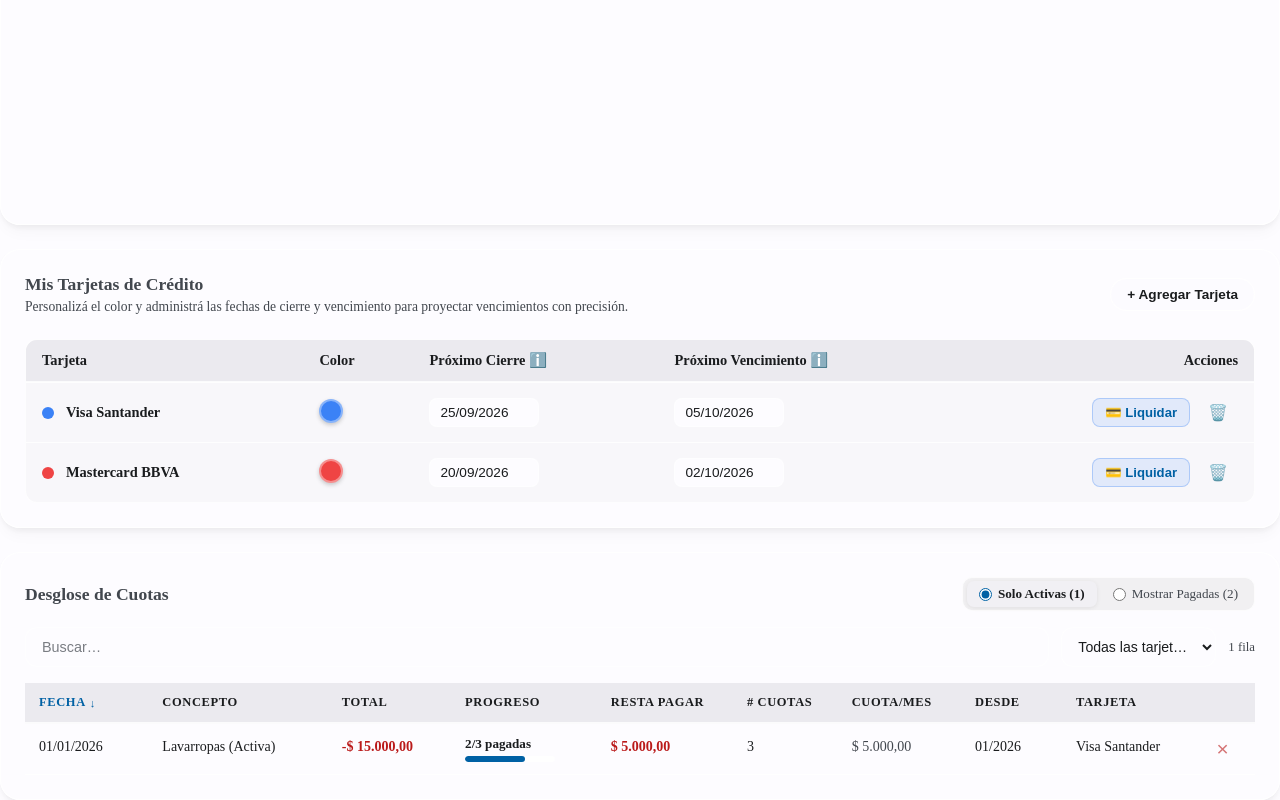
Cuotas UI Components › CuotasDashboard › filters out completed cuotas when "Solo Activas" is selected and reveals them with "Mostrar Pagadas"
(page scrolled)
Expected: the text "Lavarropas (Activa)" is shown, [162,739,275,759]
Expected: the text "Cafetera (Pagada)" is not shown
# Switch radio to "Mostrar Pagadas"
Step 1. Click the radio button labelled "Mostrar Pagadas (2)" → (1119, 594), box [1113,588,1126,600]
(page scrolled)
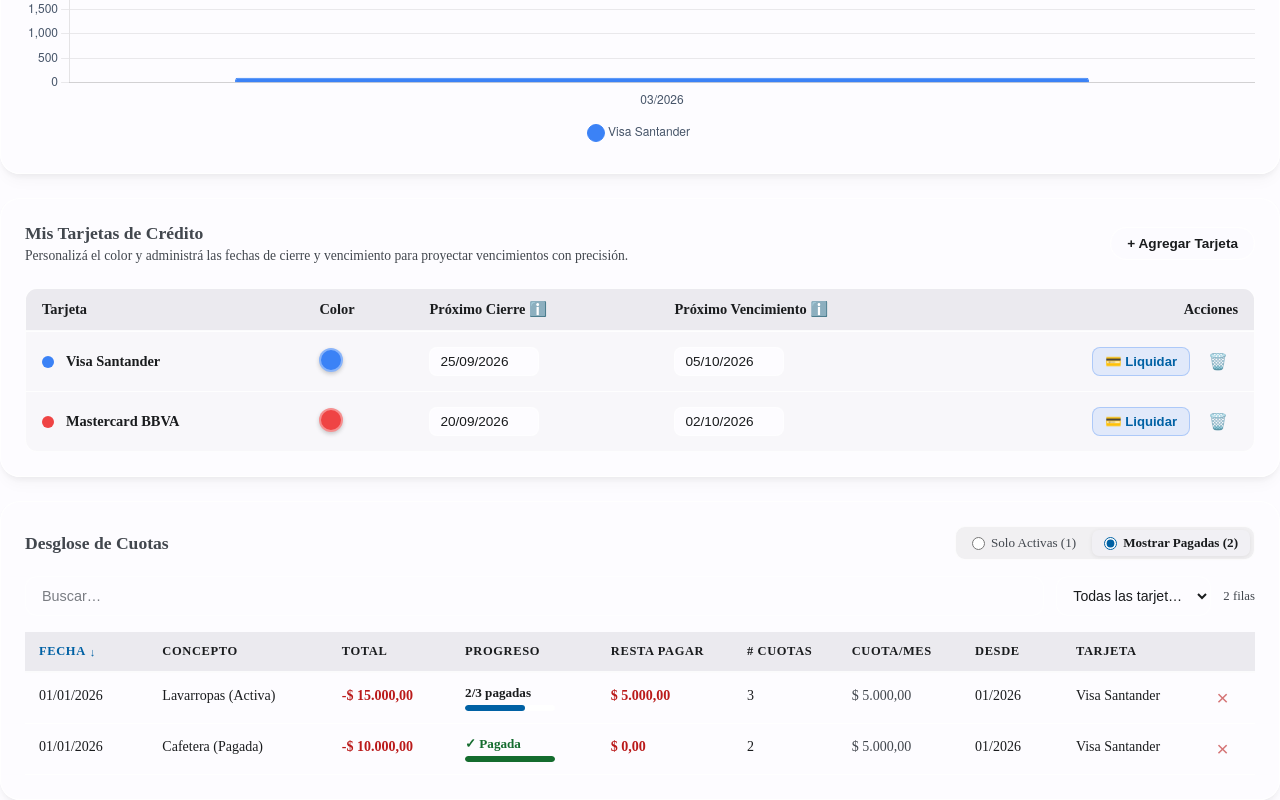
Expected: the text "Lavarropas (Activa)" is shown, [162,688,275,708]
Result: the text "Cafetera (Pagada)" is shown at [162,739,263,759]
Result: the text "✓ Pagada" is shown at [465,736,521,751]
